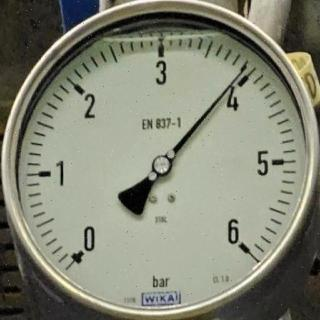gauge: (0, 0, 320, 320), (58, 222, 104, 274), (215, 217, 257, 267), (151, 154, 173, 177), (236, 60, 252, 76)
